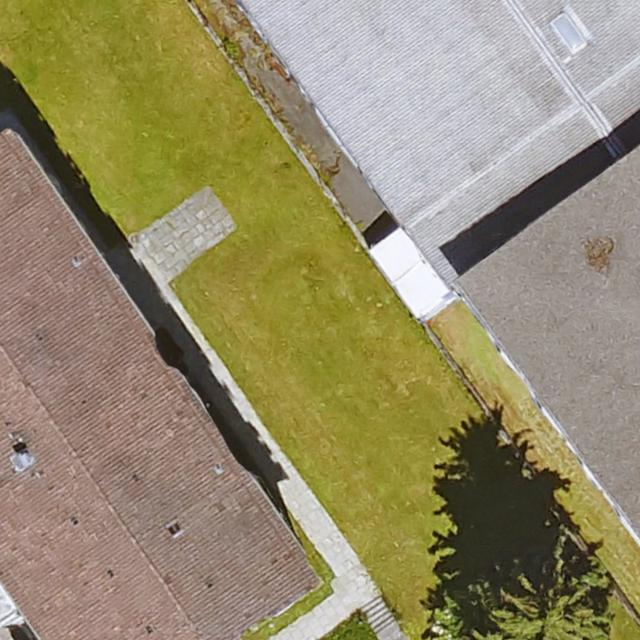tree: (472, 555, 610, 638)
